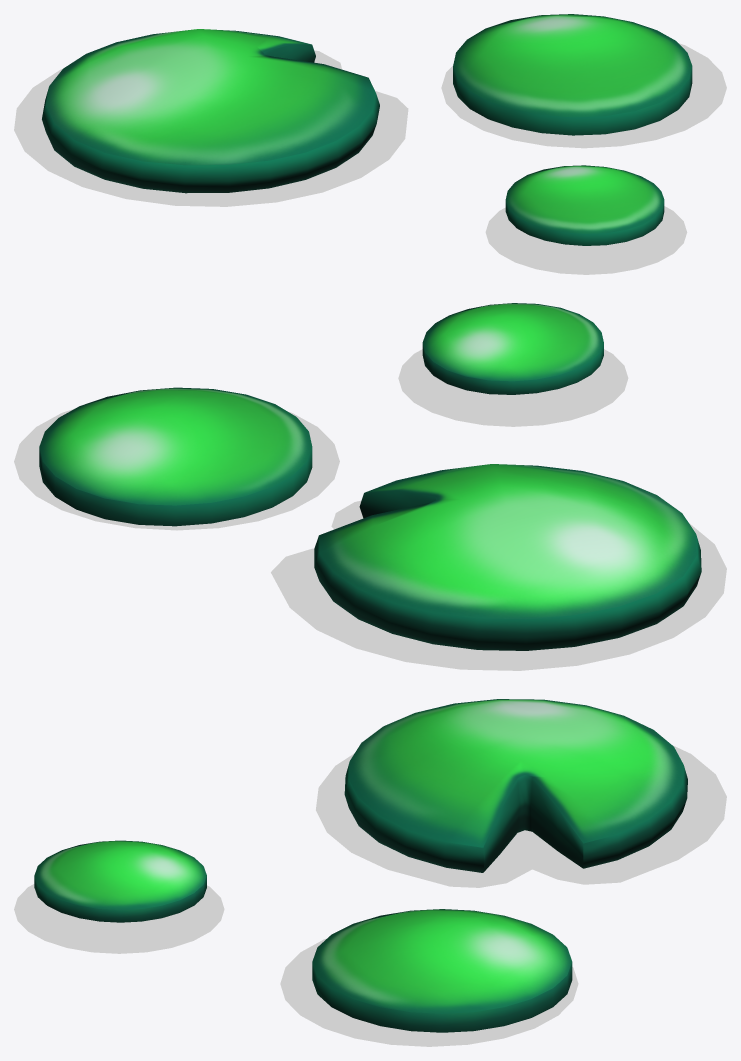
The model's file is LotusLeaf.fbx.
3 views of the same model, one above another, from view 1: azimuth 30°, elevation 25°; view 2: azimuth 150°, elevation 25°; view 3: azimuth 270°, elevation 25° (orthographic). The views are drawn at different scales.
Parts seen in each view (by area): view 1: Leaf3, Leaf2, Leaf_SDW, Leaf1; view 2: Leaf3, Leaf2, Leaf_SDW, Leaf1; view 3: Leaf3, Leaf_SDW, Leaf2, Leaf1.
Part boxes in pixels (<box>): Leaf3: <box>42,29,379,193</box>; Leaf2: <box>453,14,692,135</box>; Leaf_SDW: <box>14,43,726,274</box>; Leaf1: <box>505,165,664,245</box>; Leaf3: <box>314,464,701,650</box>; Leaf2: <box>39,387,312,526</box>; Leaf_SDW: <box>14,349,726,670</box>; Leaf1: <box>422,303,603,394</box>; Leaf3: <box>344,699,687,872</box>; Leaf_SDW: <box>14,745,726,1046</box>; Leaf2: <box>312,909,572,1032</box>; Leaf1: <box>34,840,206,922</box>.
Size of the model in its own units: 93.26 by 10.48 by 88.47.
2 materials, 1 textured.
